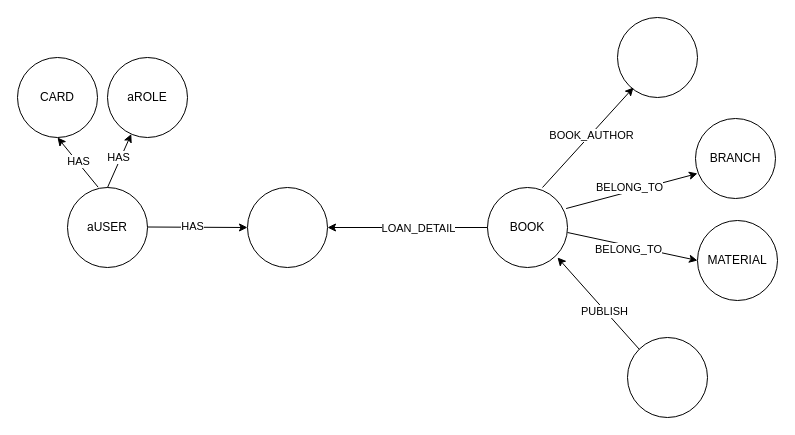
This 795x435 diagram has some shape labels left out. The shapes that lost their labels are listed below. From the top down, each one's box as (x1, y1, x2, y2) in pixels, then its label:
(616, 16, 698, 98): AUTHOR
(246, 186, 328, 268): LOAN
(626, 336, 708, 418): PUBLISHER
